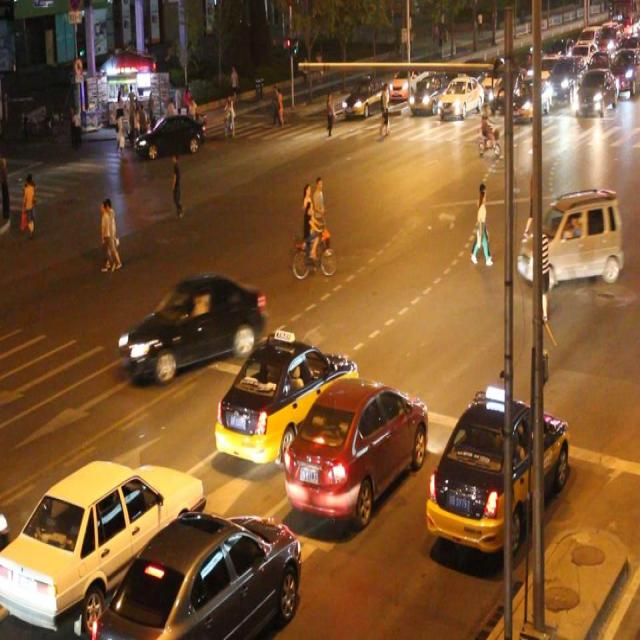car: (1, 458, 204, 630), (95, 507, 300, 640), (425, 396, 566, 552), (284, 373, 425, 521), (217, 333, 357, 462), (125, 274, 266, 380), (518, 188, 620, 284), (136, 112, 205, 158), (438, 74, 482, 118), (343, 73, 384, 119), (410, 71, 445, 114)
